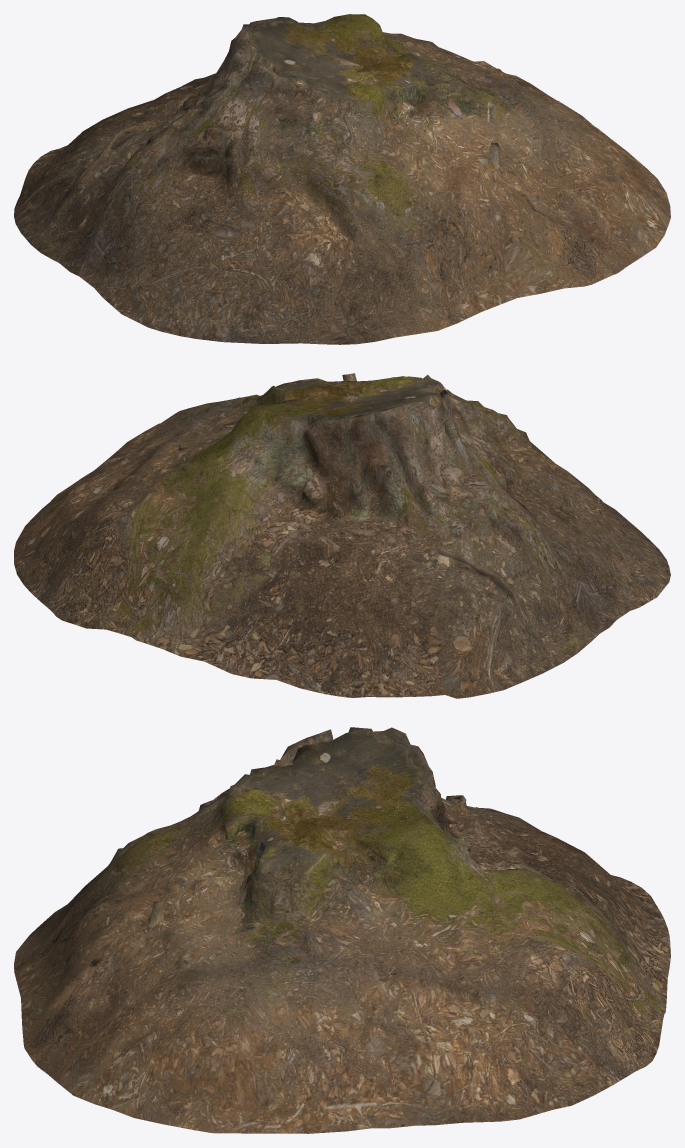
The model's file is SM_Stump_02.gltf.
The picture shows the model from 3 angles, top to bottom: view 1: azimuth 30°, elevation 25°; view 2: azimuth 150°, elevation 25°; view 3: azimuth 270°, elevation 25°; orthographic projection. The views are drawn at different scales.
Parts seen in each view (by area): view 1: SM_Stump_02; view 2: SM_Stump_02; view 3: SM_Stump_02.
Part boxes in pixels (bbox=[...]): SM_Stump_02: bbox=[14, 14, 670, 344]; SM_Stump_02: bbox=[14, 373, 670, 698]; SM_Stump_02: bbox=[14, 727, 670, 1133].
Bounding box in the file's own units: 1.52 × 0.5224 × 1.39.
Materials: 1 (1 with a texture image).
